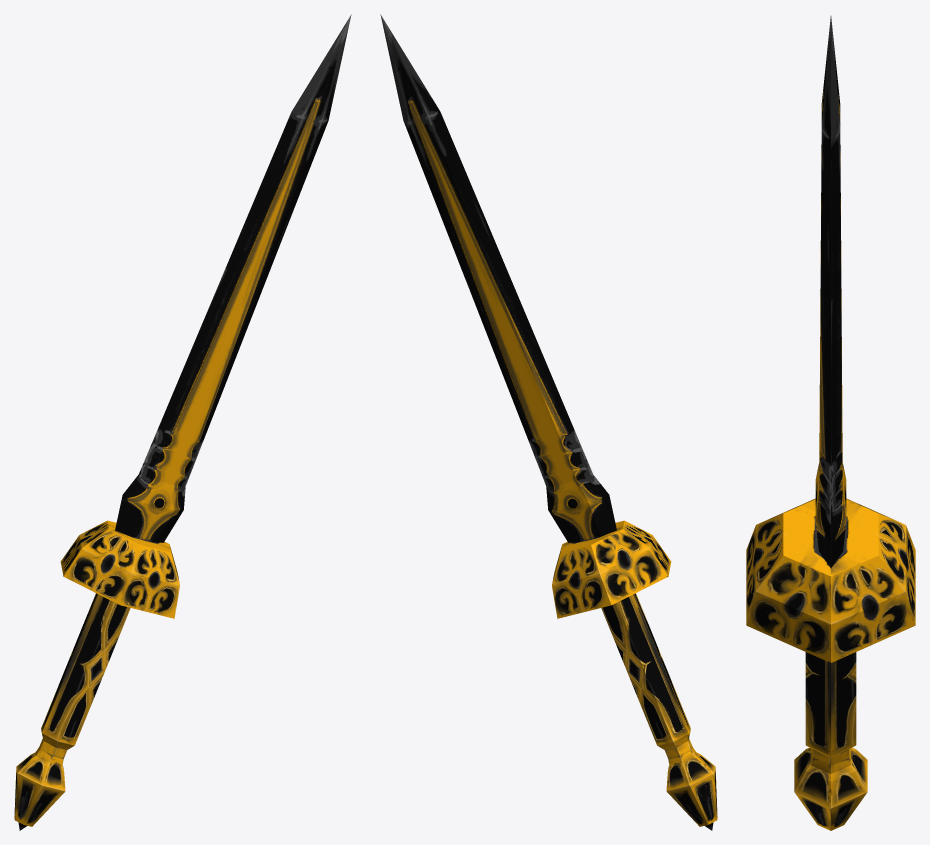
The model's file is ow-Swordv1.glb.
The picture shows the model from 3 angles, left to right: view 1: azimuth 30°, elevation 25°; view 2: azimuth 150°, elevation 25°; view 3: azimuth 270°, elevation 25°; orthographic projection. The views are drawn at different scales.
Parts seen in each view (by area): view 1: Sword; view 2: Sword; view 3: Sword.
Part boxes in pixels (bbox=[...]): Sword: bbox=[14, 14, 351, 830]; Sword: bbox=[380, 14, 717, 830]; Sword: bbox=[746, 16, 915, 830].
Size of the model in its own units: 0.7932 by 1.66 by 0.244.
Materials: 1 (1 with a texture image).
